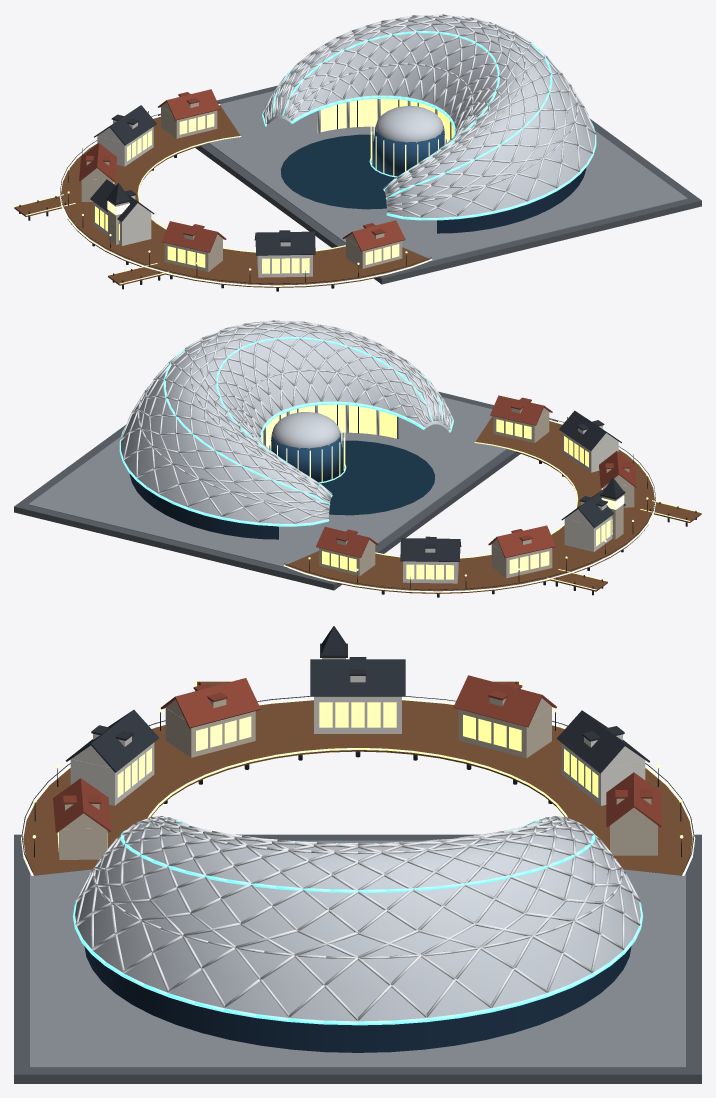
File: arts_centre_moon.glb
3 renders of one model, top to bottom at view 1: azimuth 30°, elevation 25°; view 2: azimuth 150°, elevation 25°; view 3: azimuth 270°, elevation 25°, orthographic. The views are drawn at different scales.
Visible parts, largest first — view 1: ArtsCentreMoonHarbour; view 2: ArtsCentreMoonHarbour; view 3: ArtsCentreMoonHarbour.
Part boxes in pixels (<box>): ArtsCentreMoonHarbour: <box>14,14,701,291</box>; ArtsCentreMoonHarbour: <box>14,320,701,597</box>; ArtsCentreMoonHarbour: <box>14,626,701,1083</box>.
Size of the model in its own units: 232 by 46.97 by 172.
